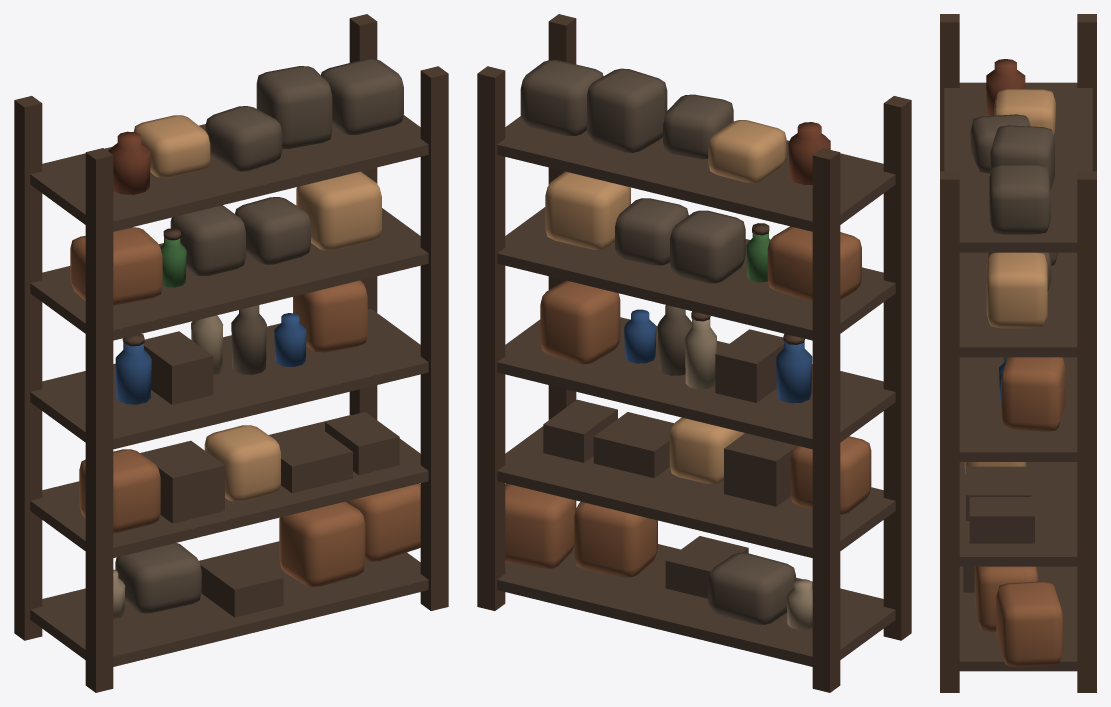
The model's file is shelves.glb.
The picture shows the model from 3 angles, left to right: view 1: azimuth 30°, elevation 25°; view 2: azimuth 150°, elevation 25°; view 3: azimuth 270°, elevation 25°; orthographic projection. The views are drawn at different scales.
Visible parts, largest first — view 1: shelves; view 2: shelves; view 3: shelves.
Part boxes in pixels (x1,y1,x2,y2): shelves: (14,14,448,692); shelves: (477,14,911,692); shelves: (940,14,1096,692).
Bounding box in the file's own units: 0.9387 × 1.3 × 0.36.
